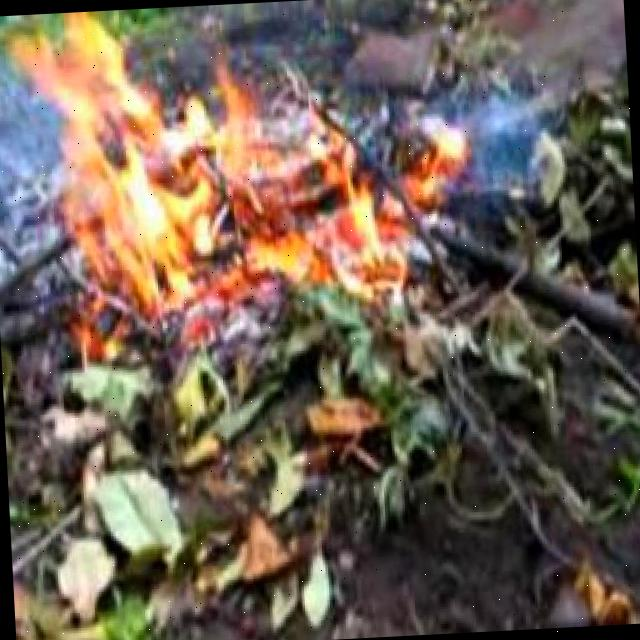fire: (8, 0, 465, 317)
